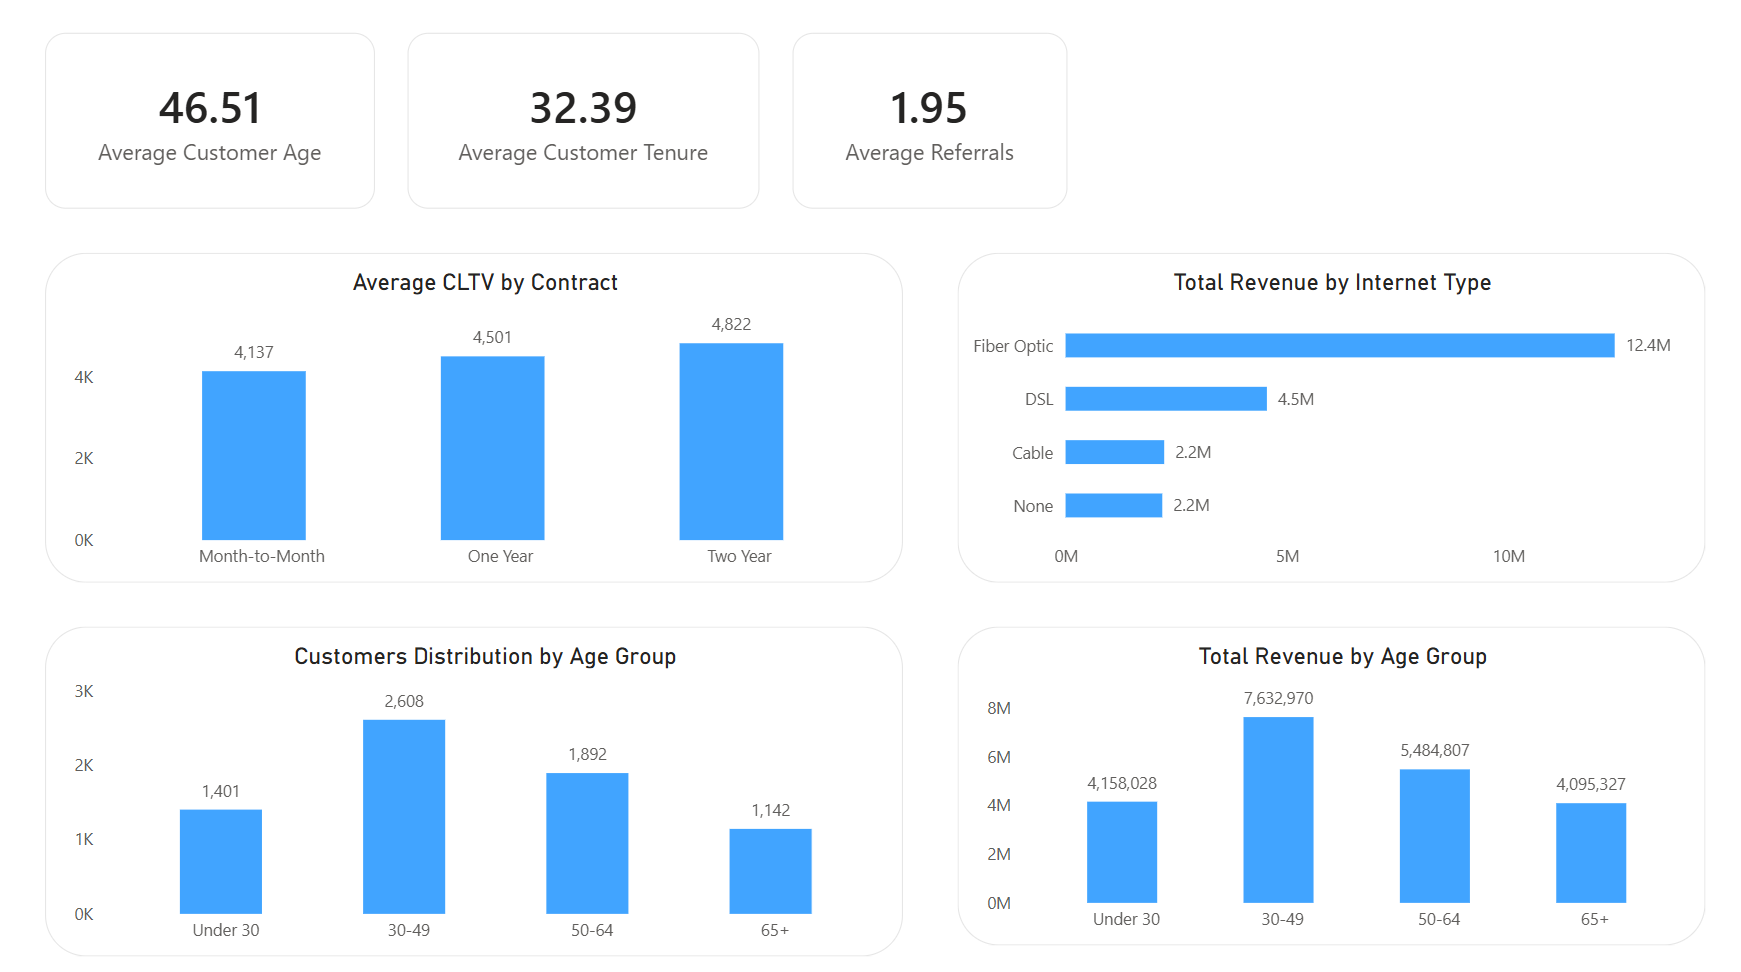

This screenshot's page, from the dashboard's own definition file:
{"tool":"powerbi","page":{"name":"Customer Segmentation & Value Analysis","canvas":[1280,720],"ordinal":1},"visuals":[{"type":"clusteredColumnChart","title":"Average CLTV by Contract","fields":{"Y":["Avg(telco.CLTV)"],"Category":["telco.Contract"]},"box":[40,192,624,240],"z":0},{"type":"barChart","title":"Total Revenue by Internet Type","fields":{"Category":["telco.Internet Type"],"Y":["Sum(telco.Total Revenue)"]},"box":[704,192,544,240],"z":1000},{"type":"clusteredColumnChart","title":"Customers Distribution  by Age Group","fields":{"Category":["telco.Age Group"],"Y":["CountNonNull(telco.Customer ID)"]},"box":[40,464,624,240],"z":2000},{"type":"clusteredColumnChart","title":"Total Revenue by Age Group","fields":{"Category":["telco.Age Group"],"Y":["Sum(telco.Total Revenue)"]},"box":[704,464,544,232],"z":3000},{"type":"cardVisual","fields":{"Data":["Avg(telco.Age)"]},"box":[40,32,240,128],"z":4000},{"type":"cardVisual","fields":{"Data":["Avg(telco.Tenure in Months)"]},"box":[304,32,256,128],"z":5000},{"type":"cardVisual","fields":{"Data":["Avg(telco.Number of Referrals)"]},"box":[584,32,200,128],"z":6000}]}

Visuals, with their boxes in screenshot pixels (x1, y1, x2, y2), scaled from the page's 1280x720 canvas onto the 1741x972 screenshot:
"Average CLTV by Contract" clusteredColumnChart: select_region(54, 259, 903, 583)
"Total Revenue by Internet Type" barChart: select_region(958, 259, 1697, 583)
"Customers Distribution  by Age Group" clusteredColumnChart: select_region(54, 626, 903, 950)
"Total Revenue by Age Group" clusteredColumnChart: select_region(958, 626, 1697, 940)
cardVisual - Avg(telco.Age): select_region(54, 43, 381, 216)
cardVisual - Avg(telco.Tenure in Months): select_region(413, 43, 762, 216)
cardVisual - Avg(telco.Number of Referrals): select_region(794, 43, 1066, 216)
